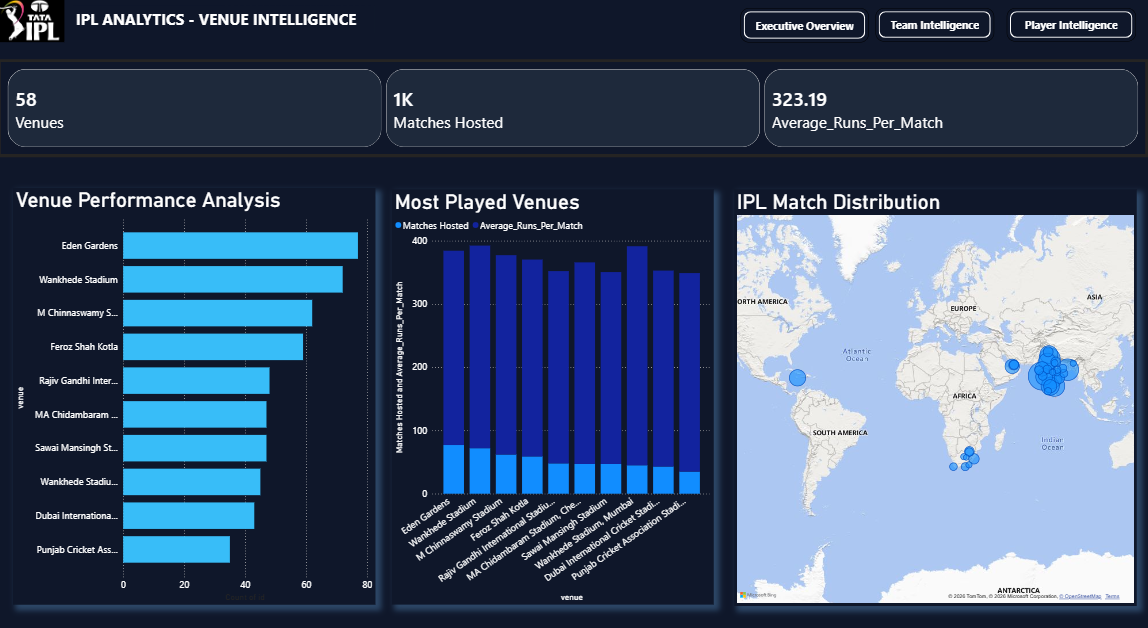

What the dashboard file says about the page in this screenshot:
{"tool":"powerbi","page":{"name":"Venue Intelligence ","canvas":[2000,1100],"ordinal":3},"visuals":[{"type":"actionButton","box":[1526.7,18.3,206.7,58.3],"z":0},{"type":"actionButton","box":[1755,18.3,225,58.3],"z":1000},{"type":"image","box":[0,0,115,76.7],"z":2000},{"type":"textbox","box":[130,13.3,525,48.3],"z":3000},{"type":"cardVisual","fields":{"Data":["ipl_analytics matches.Venues","ipl_analytics matches.Matches Hosted","ipl_analytics matches.Average_Runs_Per_Match"]},"box":[0,106,2000,170],"z":4000},{"type":"map","title":"IPL Match Distribution","fields":{"Category":["ipl_analytics matches.city"],"Size":["CountNonNull(ipl_analytics matches.id)"]},"box":[1280,332.5,700,725],"z":5000},{"type":"clusteredBarChart","title":"Venue Performance Analysis","fields":{"Y":["CountNonNull(ipl_analytics matches.id)"],"Category":["ipl_analytics matches.venue"]},"box":[25,330,630,725],"z":6000},{"type":"lineStackedColumnComboChart","title":"Most Played Venues","fields":{"Category":["ipl_analytics matches.venue"],"Y":["ipl_analytics matches.Matches Hosted","ipl_analytics matches.Average_Runs_Per_Match"]},"box":[685,332.5,560,722.5],"z":7000},{"type":"actionButton","box":[1291.7,16.7,223.3,60],"z":8000}]}

Visuals, with their boxes in screenshot pixels (x1, y1, x2, y2), scaled from the page's 2000x1100 canvas onto the 1148x628 screenshot:
actionButton: [left=876, top=10, right=995, bottom=44]
actionButton: [left=1007, top=10, right=1137, bottom=44]
image: [left=0, top=0, right=66, bottom=44]
textbox: [left=75, top=8, right=376, bottom=35]
cardVisual - ipl_analytics matches.Venues x ipl_analytics matches.Matches Hosted: [left=0, top=61, right=1147, bottom=158]
"IPL Match Distribution" map: [left=735, top=190, right=1137, bottom=604]
"Venue Performance Analysis" clusteredBarChart: [left=14, top=188, right=376, bottom=602]
"Most Played Venues" lineStackedColumnComboChart: [left=393, top=190, right=715, bottom=602]
actionButton: [left=741, top=10, right=870, bottom=44]
